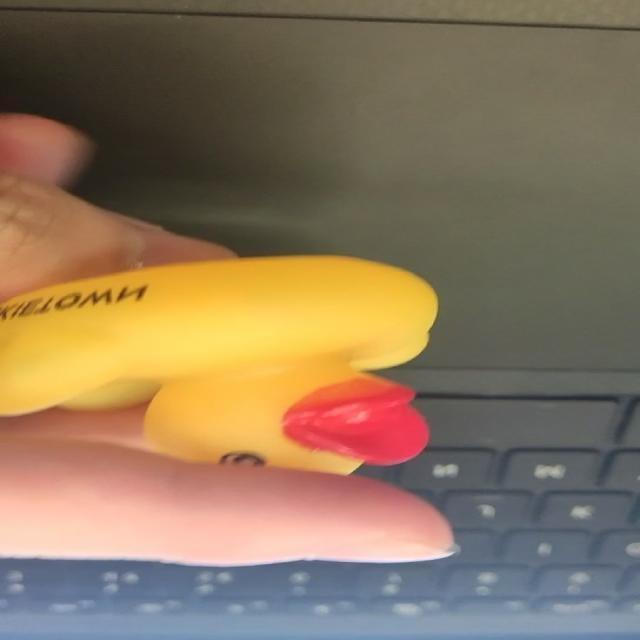rubber-duck: (0, 255, 436, 472)
